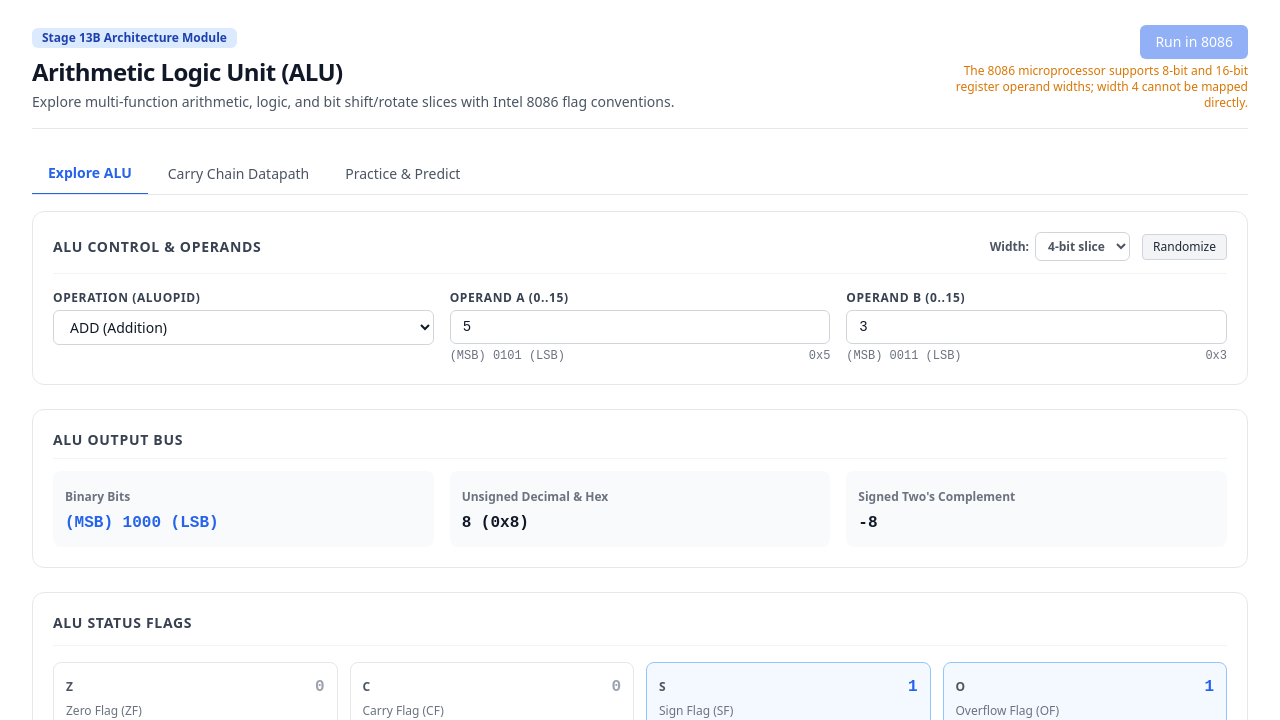
AluPage › detects 7 + 5 signed overflow (V=1) and negative MSB (S=1) in 4-bit
Replace the text in the number field labelled "Operand A (0..15)" with "7" at (640, 327), box [450,310,830,344]
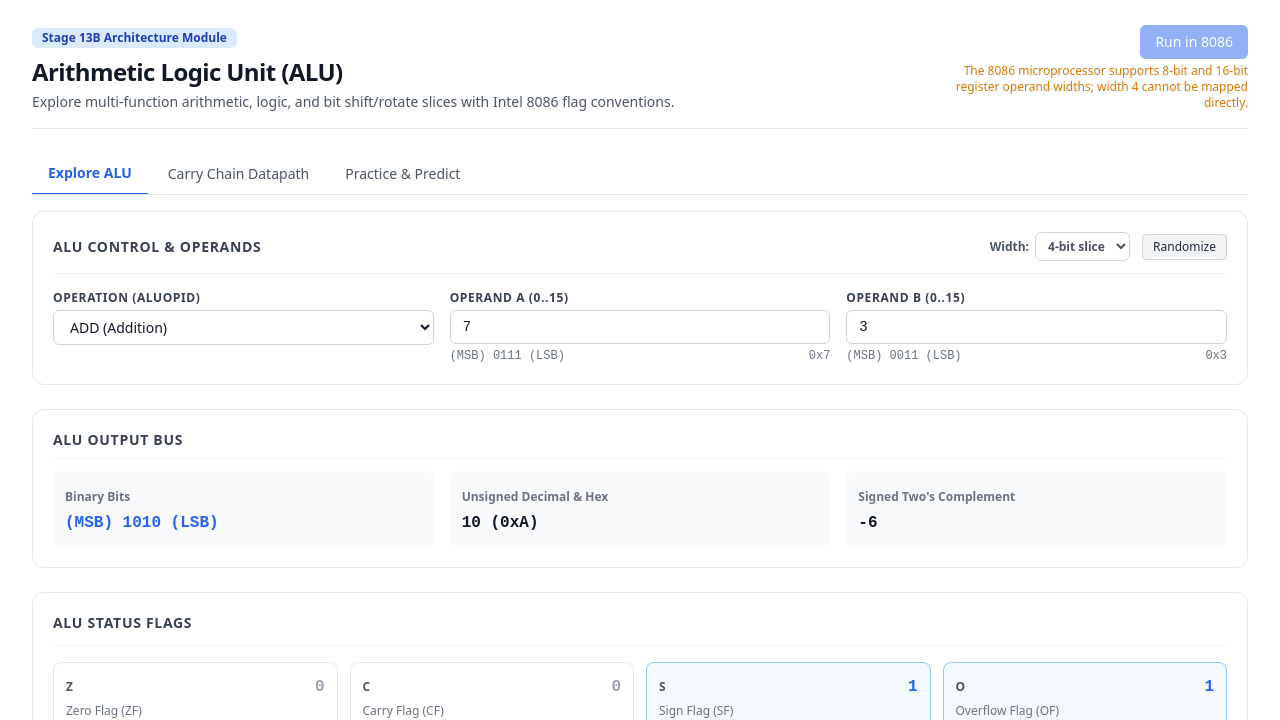
Replace the text in the number field labelled "Operand B (0..15)" with "5" at (1037, 327), box [846,310,1227,344]
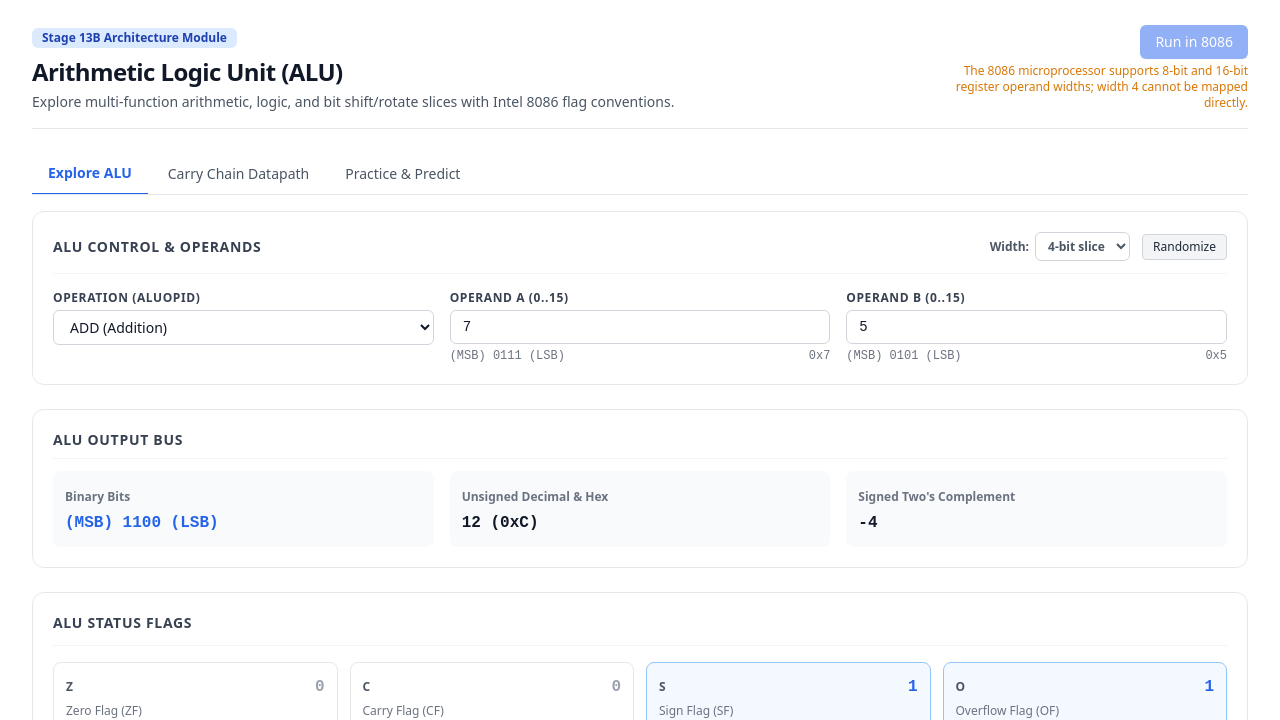
Now the text "(MSB) 1100 (LSB)" is shown, box [65,514,219,532]
Now the text "-4" is shown, box [858,514,878,532]
